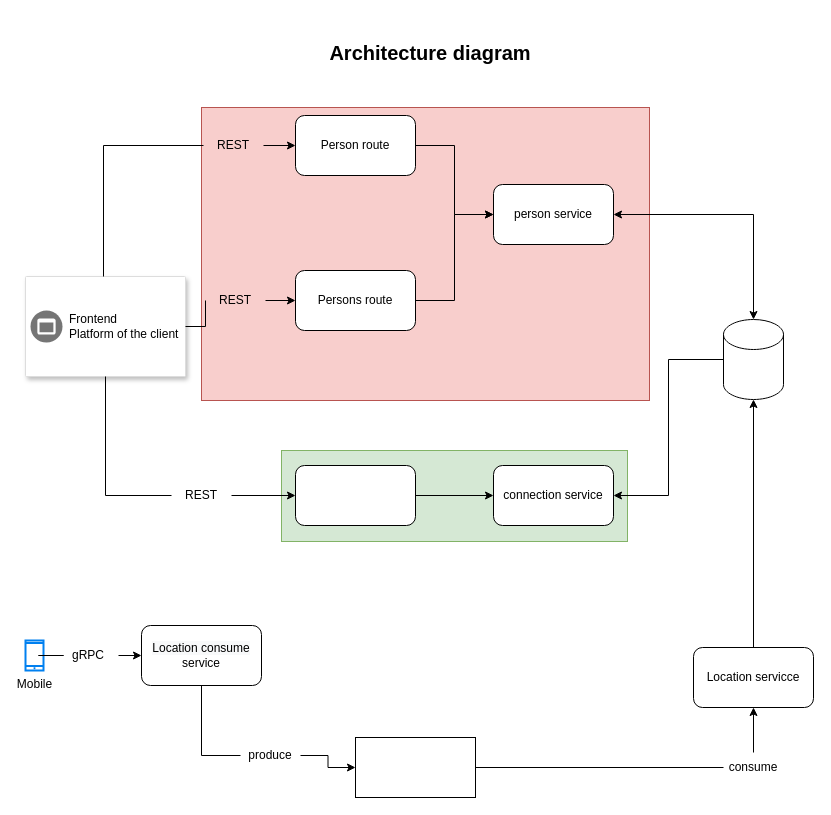
Some shapes in this 831 by 815 pixel diagram are drawn without their labels. The shapes that lost their labels are listed below. From the top down, each one's centre as x and y in pixels, then its label:
[753,359]: database
[355,495]: connections route
[415,767]: KAFKA
